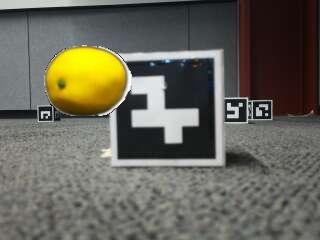lemon: (44, 47, 124, 114)
